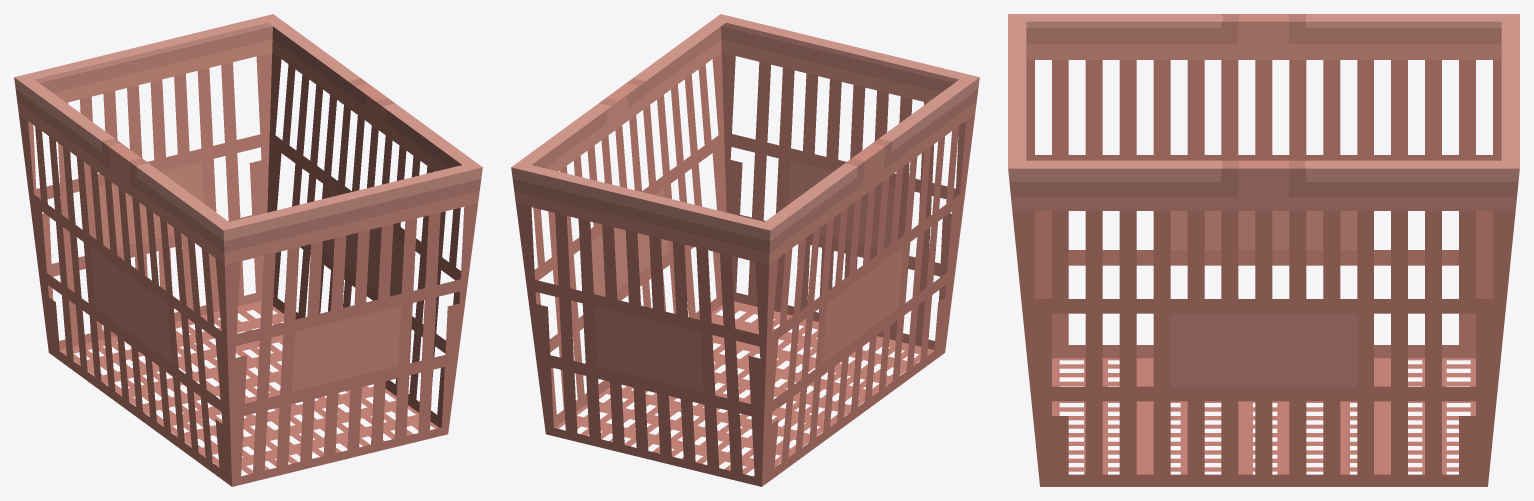
The model's file is 0062_Shopping_Basket.glb.
3 views of the same model, side by side, from view 1: azimuth 30°, elevation 25°; view 2: azimuth 150°, elevation 25°; view 3: azimuth 270°, elevation 25° (orthographic). The views are drawn at different scales.
Parts seen in each view (by area): view 1: part_0; view 2: part_0; view 3: part_0.
Boxes of the visible parts, x1,y1,x2,y2 form: part_0: (14, 14, 482, 486); part_0: (511, 14, 979, 486); part_0: (1008, 14, 1519, 486).
Bounding box in the file's own units: 0.3 × 0.3 × 0.42.
1 material, 1 textured.
